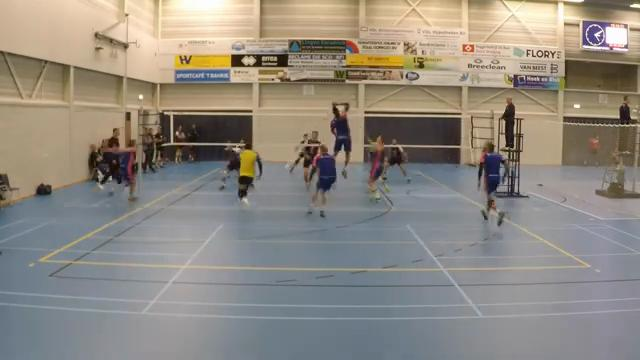attacco: (324, 97, 357, 178)
